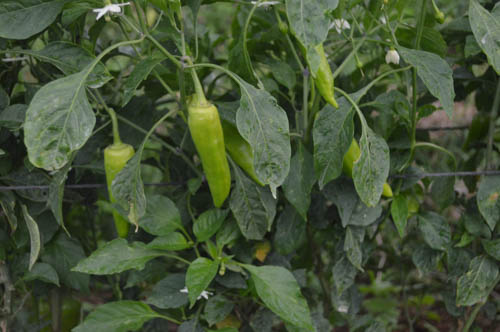ChiliPepper: (189, 105, 232, 203), (102, 148, 136, 238), (227, 124, 269, 184), (343, 146, 390, 196), (305, 46, 335, 111)
